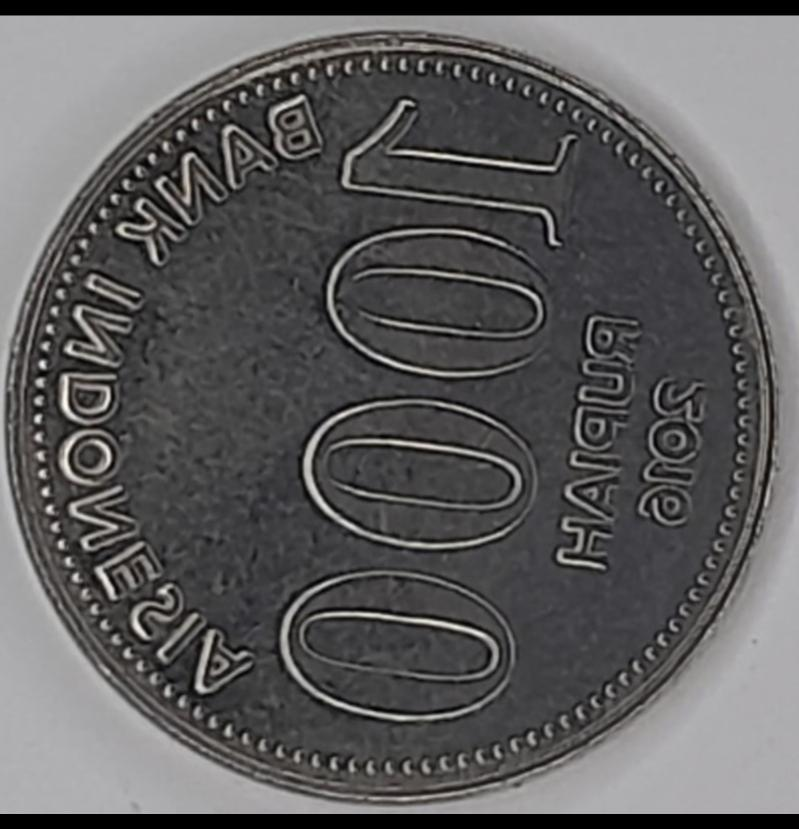coin_1000_e2016: (14, 16, 788, 829)
